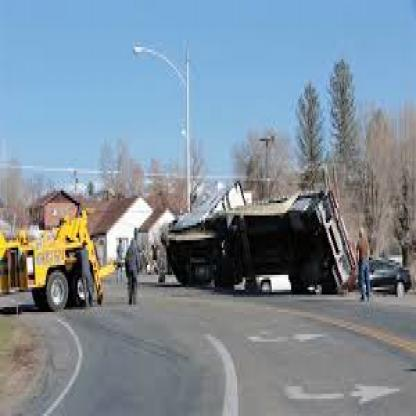accident: (143, 167, 370, 318)
